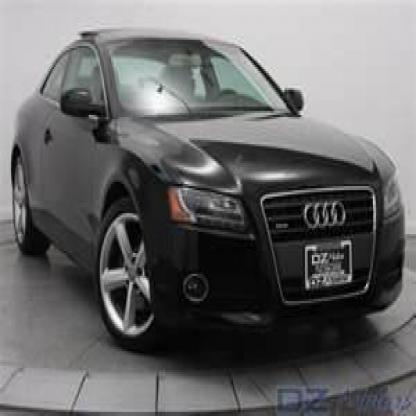Vehicle: (10, 29, 408, 364)
